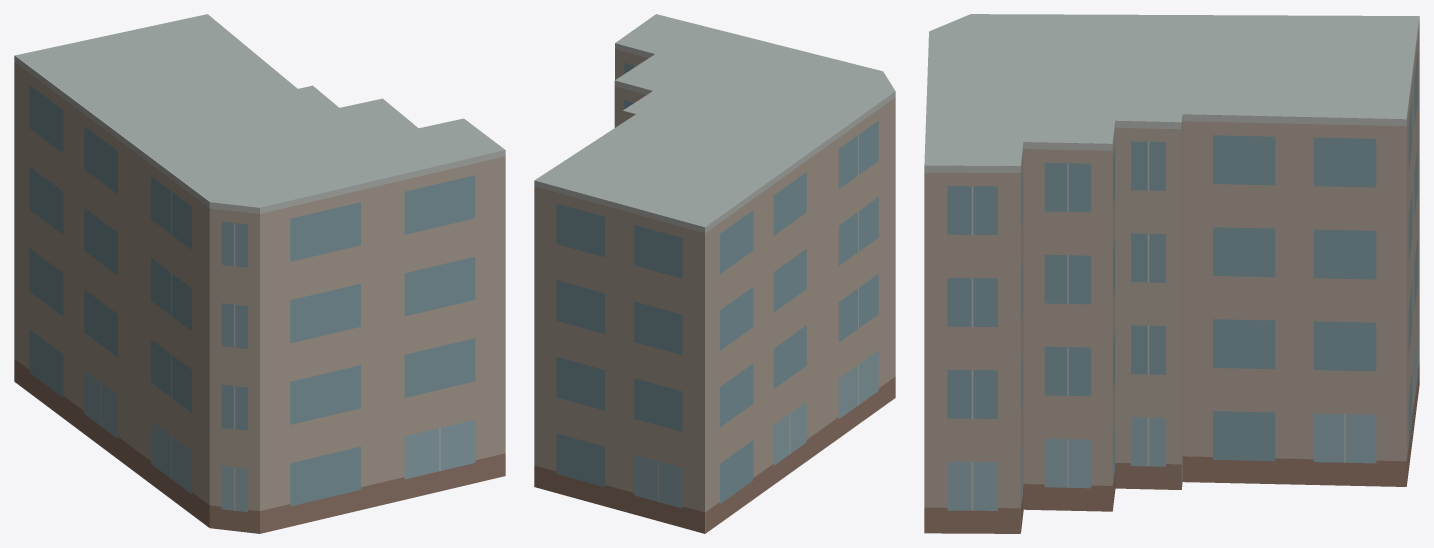
Rendered from survey-upis-32698911.glb.
3 views of the same model, side by side, from view 1: azimuth 30°, elevation 25°; view 2: azimuth 150°, elevation 25°; view 3: azimuth 270°, elevation 25° (orthographic). The views are drawn at different scales.
Visible parts, largest first — view 1: survey-upis-32698911.tmp; view 2: survey-upis-32698911.tmp; view 3: survey-upis-32698911.tmp.
Part boxes in pixels (bbox=[...]): survey-upis-32698911.tmp: bbox=[14, 14, 505, 533]; survey-upis-32698911.tmp: bbox=[534, 14, 895, 533]; survey-upis-32698911.tmp: bbox=[924, 14, 1419, 533].
Bounding box in the file's own units: 11.37 × 12.8 × 15.63.
